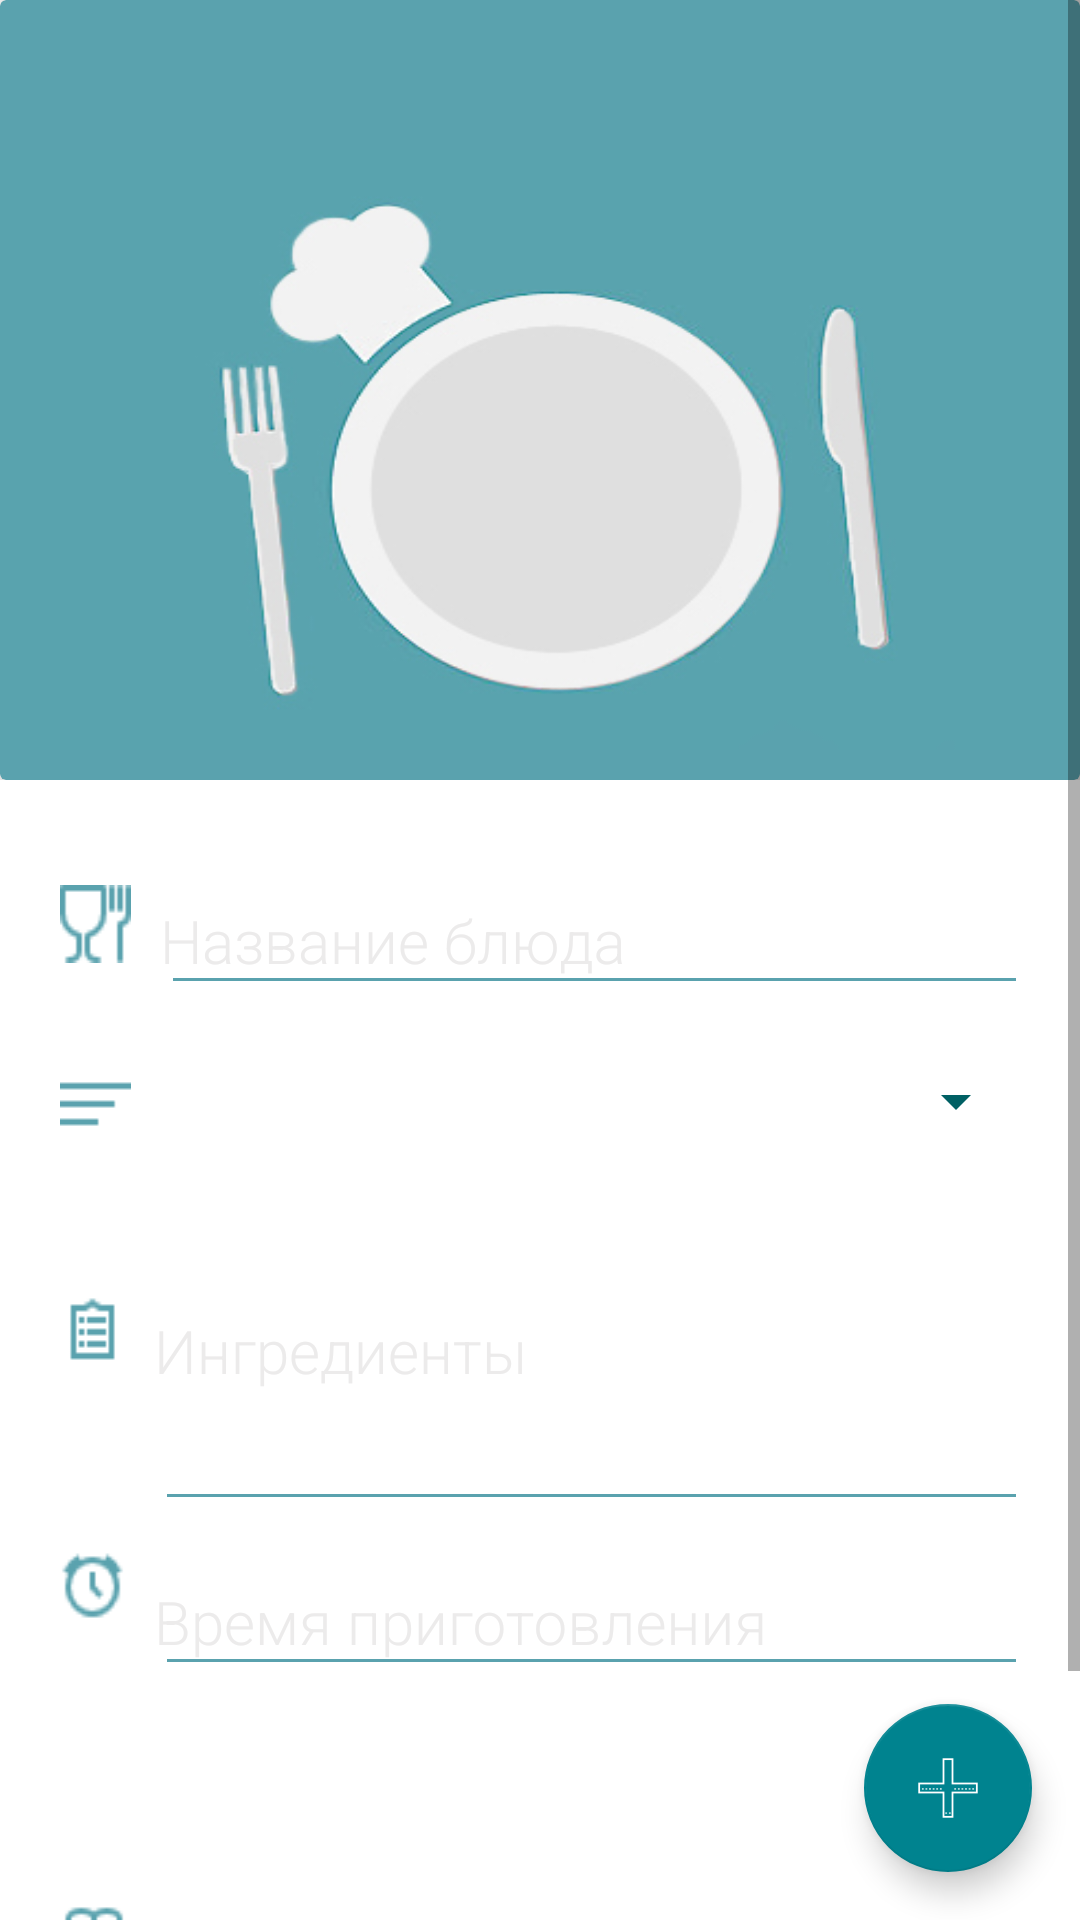

Screen size 1080px x 1920px. Icon name, then its box in pixels as (x1, y1, x2, y2):
add: (864, 1704, 1032, 1872)
category: (60, 1082, 131, 1126)
clock: (62, 1554, 123, 1618)
ingredients: (70, 1298, 115, 1360)
nameofdish: (60, 885, 131, 963)
